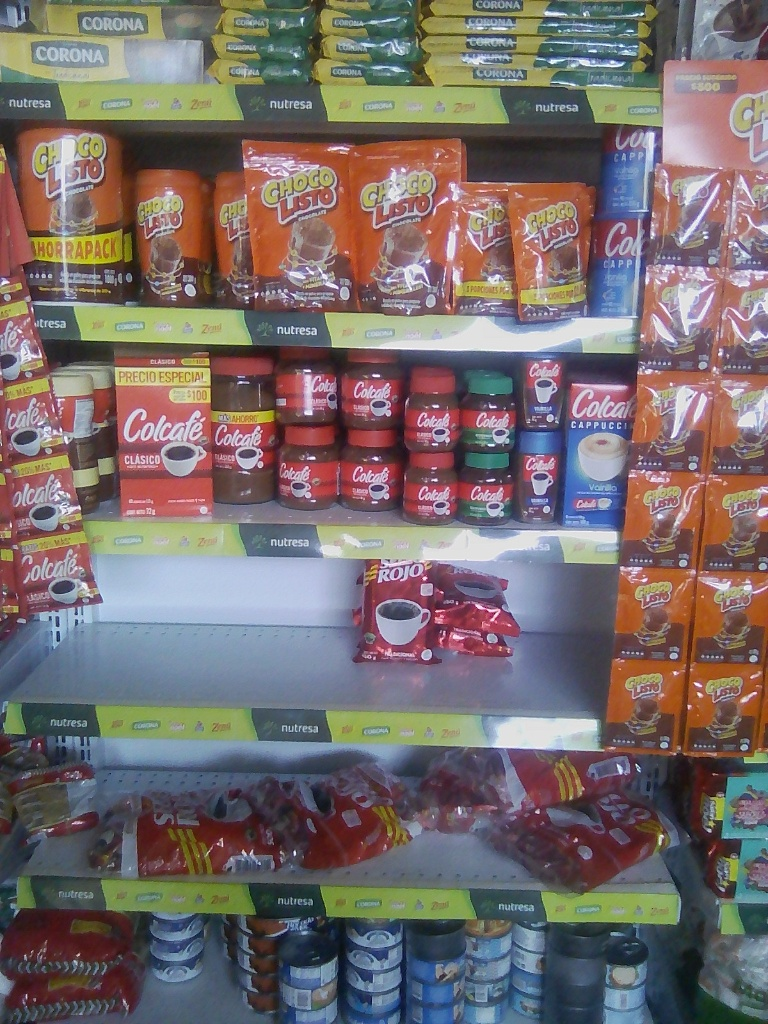COL0170103SOB02000: (651, 166, 723, 267)
COL0170103TRR00100: (11, 119, 136, 307)
